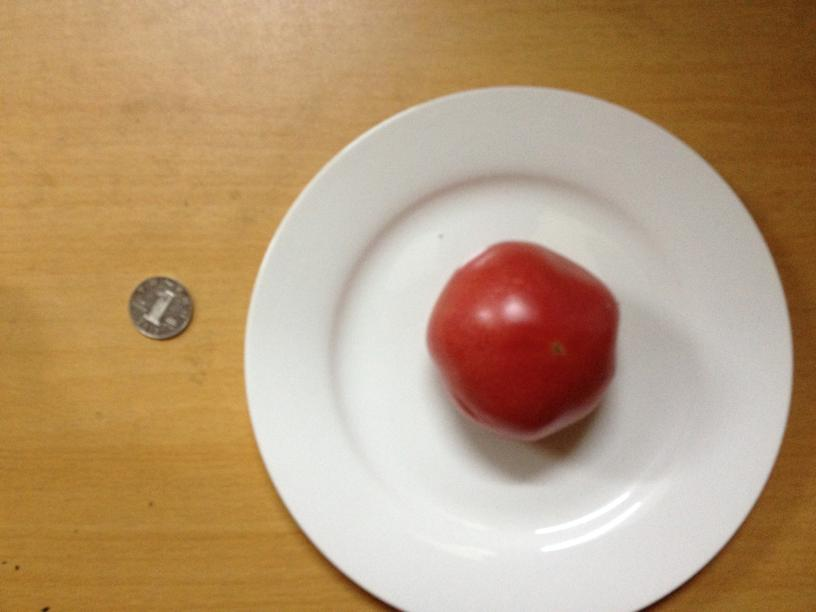coin: (122, 276, 196, 341)
tomato: (416, 239, 619, 440)
